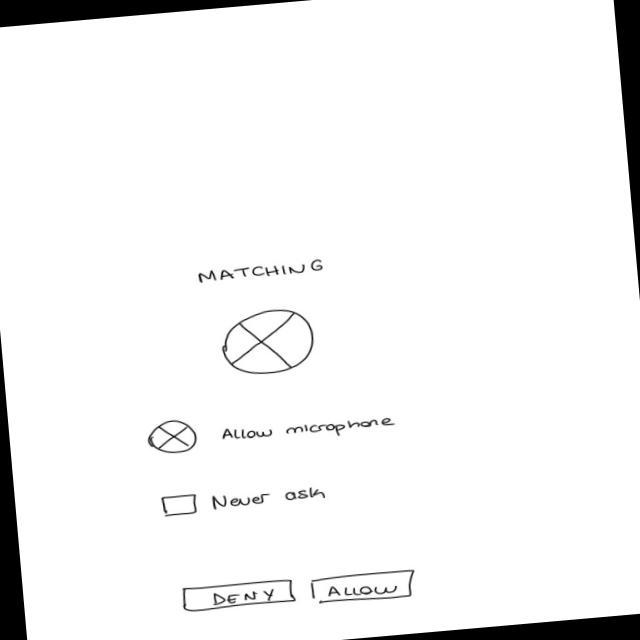button: (308, 569, 420, 609), (180, 577, 299, 614)
checkbox: (160, 480, 332, 518)
image: (218, 305, 318, 380), (145, 418, 200, 456)
label: (220, 413, 400, 449), (197, 258, 328, 285)
